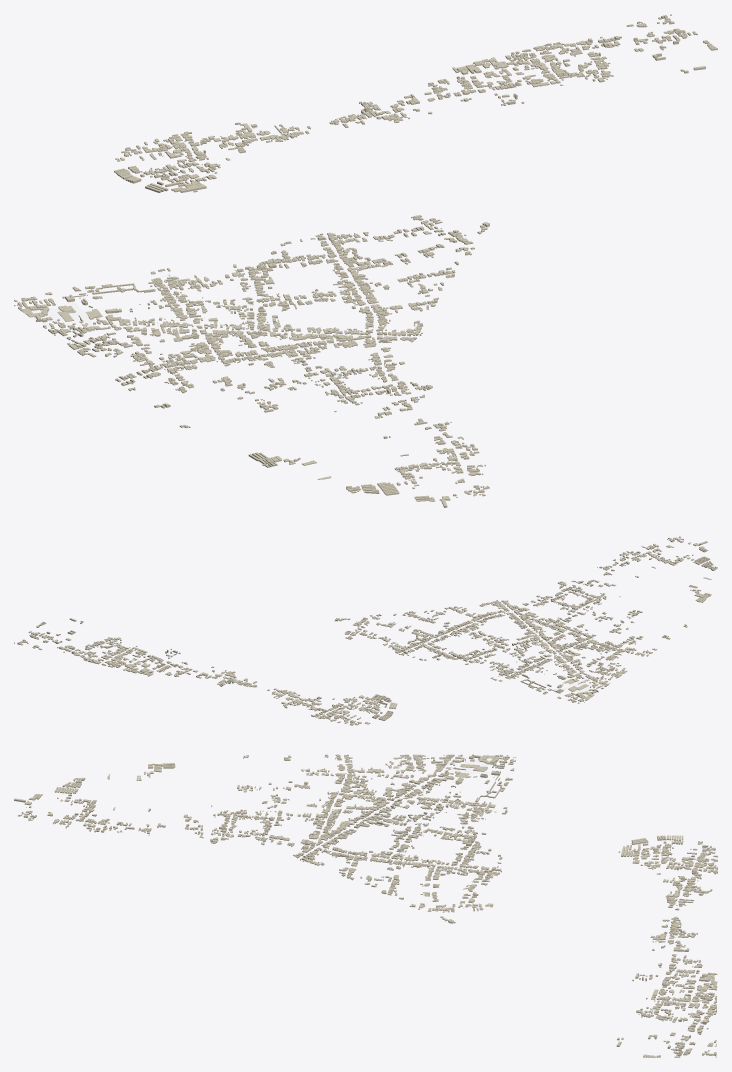
The model's file is sample-big.glb.
The picture shows the model from 3 angles, top to bottom: view 1: azimuth 30°, elevation 25°; view 2: azimuth 150°, elevation 25°; view 3: azimuth 270°, elevation 25°; orthographic projection. The views are drawn at different scales.
Size of the model in its own units: 3031092 by 15352 by 2983049.
